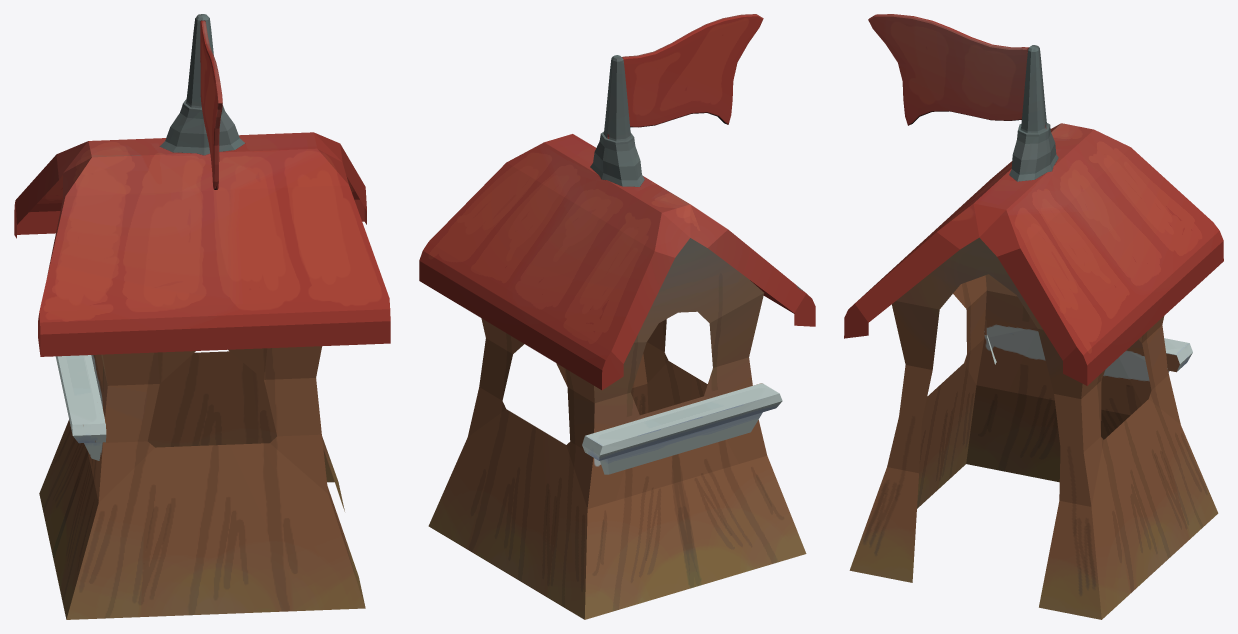
File: WatchTower.fbx
3 views of the same model, side by side, from view 1: azimuth 30°, elevation 25°; view 2: azimuth 150°, elevation 25°; view 3: azimuth 270°, elevation 25° (orthographic). The views are drawn at different scales.
Parts seen in each view (by area): view 1: Cube.007, Cube; view 2: Cube, Cube.007; view 3: Cube, Cube.007.
Part boxes in pixels (x1,y1,x2,y2): Cube.007: (14, 14, 390, 356); Cube: (39, 346, 365, 619); Cube: (428, 238, 806, 619); Cube.007: (419, 14, 815, 390); Cube: (849, 237, 1218, 619); Cube.007: (844, 14, 1223, 385).
Bounding box in the file's own units: 148 × 202 × 138.
Materials: 2 (2 with a texture image).
